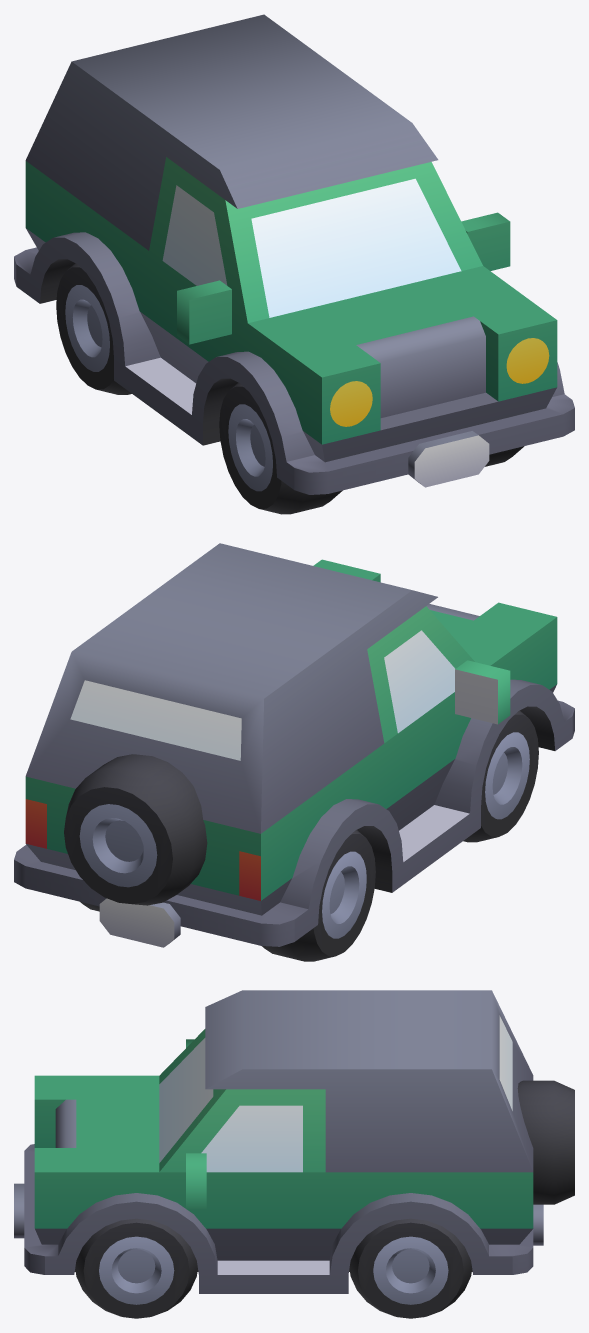
The model's file is suv.fbx.
3 views of the same model, one above another, from view 1: azimuth 30°, elevation 25°; view 2: azimuth 150°, elevation 25°; view 3: azimuth 270°, elevation 25° (orthographic). The views are drawn at different scales.
Visible parts, largest first — view 1: body, wheel-front-right, wheel-back-right; view 2: body, wheel-back, wheel-back-right, wheel-front-right; view 3: body, wheel-back-left, wheel-front-left, wheel-back.
Part boxes in pixels (x1,y1,x2,y2): body: [14, 14, 574, 494]; wheel-front-right: [219, 382, 342, 514]; wheel-back-right: [56, 263, 131, 394]; body: [14, 543, 574, 947]; wheel-back: [64, 754, 207, 905]; wheel-back-right: [262, 830, 375, 961]; wheel-front-right: [463, 710, 538, 842]; body: [14, 990, 543, 1293]; wheel-back-left: [349, 1218, 472, 1318]; wheel-front-left: [75, 1218, 197, 1318]; wheel-back: [517, 1080, 574, 1204].
Bounding box in the file's own units: 150 × 130 × 270.
1 material, 1 textured.
